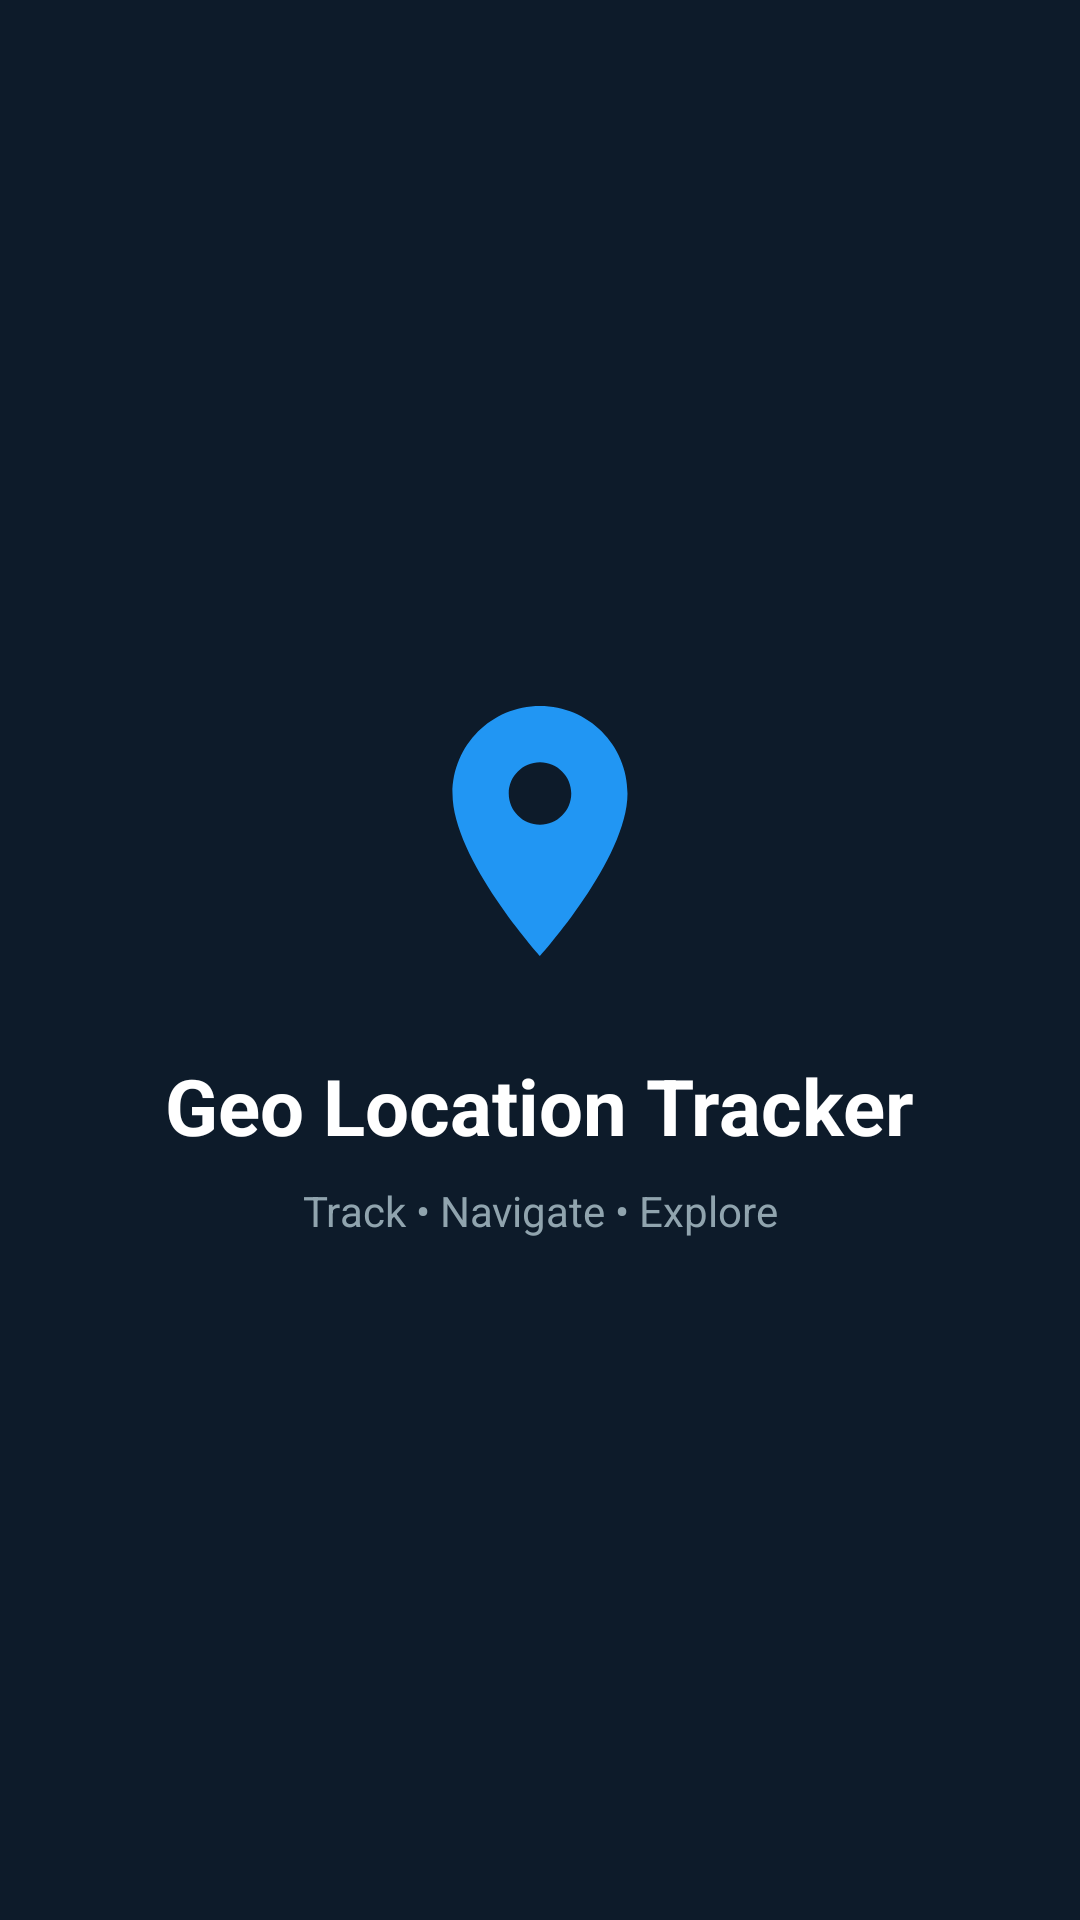

Point at icon controls on the screen. Image size 1080 × 1920, points as [x,y].
location pin: [540,831]
